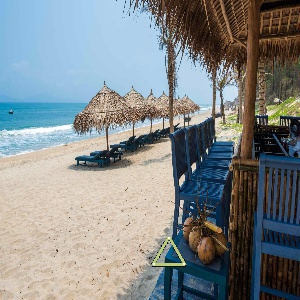triangle: (149, 235, 191, 270)
